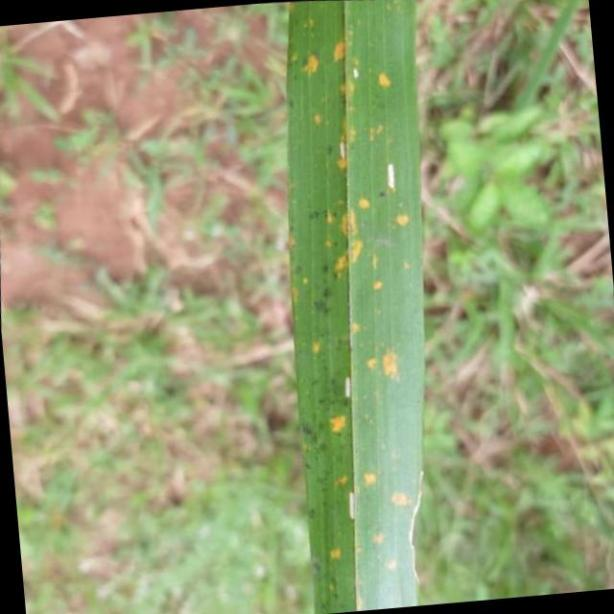Kalium: (290, 0, 426, 614)
